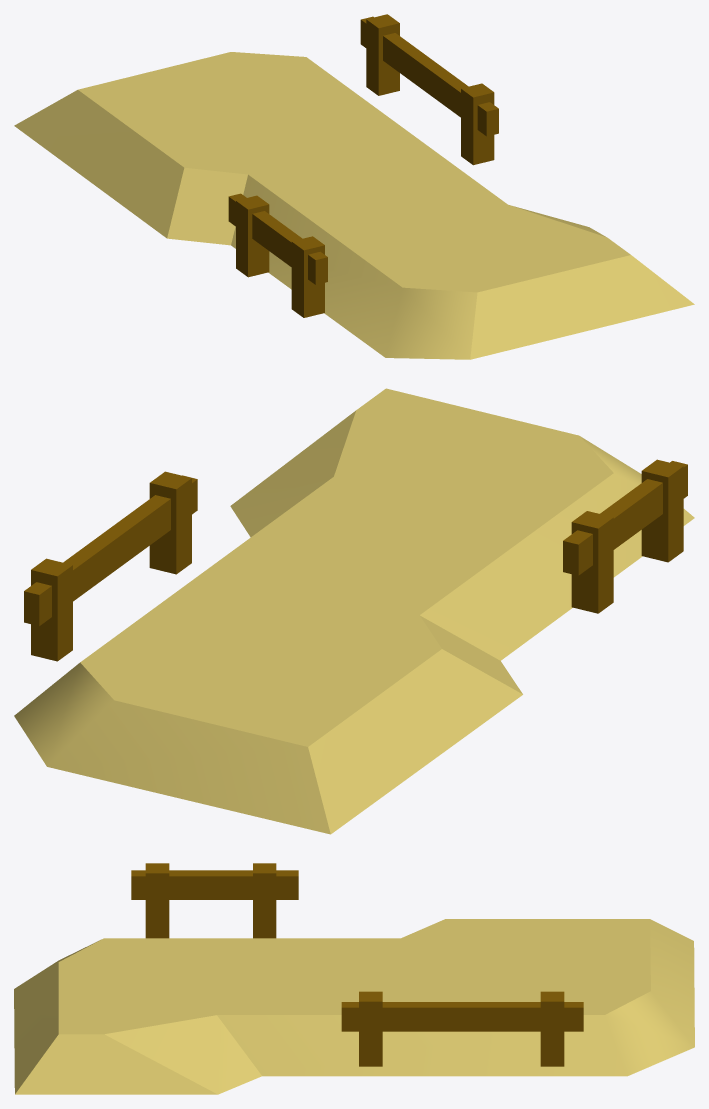
The model's file is straight.fbx.
The picture shows the model from 3 angles, top to bottom: view 1: azimuth 30°, elevation 25°; view 2: azimuth 150°, elevation 25°; view 3: azimuth 270°, elevation 25°; orthographic projection. The views are drawn at different scales.
Visible parts, largest first — view 1: polySurface8; view 2: polySurface8; view 3: polySurface8.
Part boxes in pixels (box(x1,y1,x2,y2)): polySurface8: box(14, 14, 694, 359); polySurface8: box(14, 388, 694, 834); polySurface8: box(14, 863, 694, 1094).
Size of the model in its own units: 80 by 20.38 by 150.
Materials: 1 (1 with a texture image).
